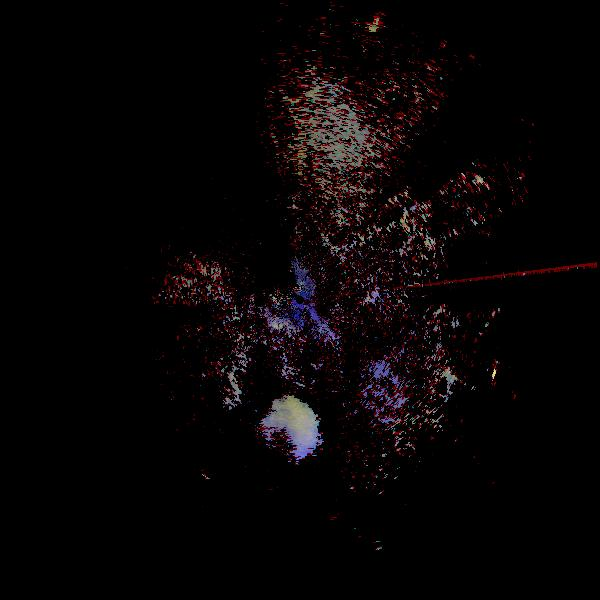roost: (260, 409, 317, 466), (264, 397, 315, 448)
